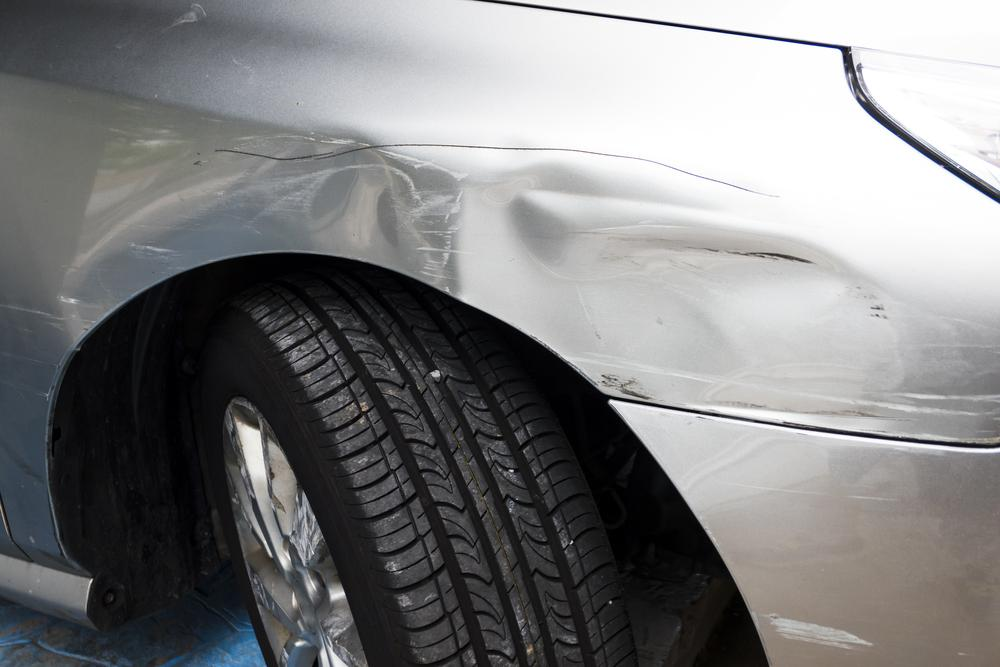dent: (461, 164, 839, 397), (62, 140, 448, 343)
scratch: (642, 273, 1000, 448), (391, 150, 481, 296), (768, 610, 888, 655)
